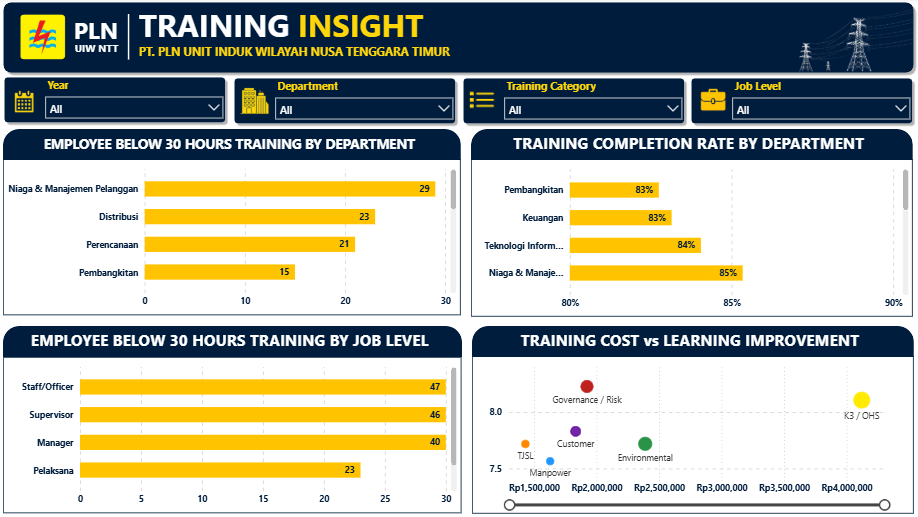

What the dashboard file says about the page in this screenshot:
{"tool":"powerbi","page":{"name":"Training Insight","canvas":[1280,720],"ordinal":5},"visuals":[{"type":"group","id":"g1","title":"Group 7","box":[960,104,316,74],"z":0,"group":"g8"},{"type":"group","id":"g2","title":"Group 8","box":[332.3,104.5,316,74],"z":0},{"type":"group","id":"g3","title":"Group 8","box":[15.1,103.5,316,74],"z":1000},{"type":"image","box":[966,112.4,60.6,53.7],"z":1000,"group":"g8"},{"type":"shape","box":[13.8,0,1264.9,108.7],"z":2000},{"type":"image","box":[41.7,22.3,65.4,62.6],"z":3000},{"type":"textbox","box":[111.9,17,83.5,52.6],"z":4000},{"type":"textbox","box":[112.6,53.9,75.2,36.8],"z":5000},{"type":"shape","box":[185,22.3,15.3,62.6],"z":6000},{"type":"textbox","box":[200.9,2.8,567.1,70.2],"z":7000},{"type":"textbox","box":[201.1,57.4,442.6,45.7],"z":8000},{"type":"clusteredBarChart","fields":{"Category":["DimEmployee.Department"],"Y":["FactTraining.Training Completion Rate"]},"box":[664.1,221.3,608.3,217.5],"z":8000,"group":"g12"},{"type":"clusteredBarChart","fields":{"Category":["DimEmployee.Department"],"Y":["FactTraining.Employees Low Training Exposure"]},"box":[19.7,221.7,629.7,214.6],"z":8000,"group":"g4"},{"type":"scatterChart","fields":{"X":["FactTraining.Cost per Participant"],"Y":["FactTraining.Learning Improvement"],"Size":["FactTraining.Training Participants"],"Series":["DimTraining.TrainingCategory"]},"box":[665.1,492.3,608.3,217.5],"z":8000,"group":"g13"},{"type":"clusteredBarChart","fields":{"Y":["FactTraining.Employees Low Training Exposure"],"Category":["DimEmployee.JobLevel"]},"box":[19.3,494.1,630.5,214.7],"z":8000,"group":"g6"},{"type":"image","box":[1113.5,6.9,161,100.5],"z":9000},{"type":"group","id":"g4","title":"Group 9","box":[19.3,180.3,630.4,256],"z":10000},{"type":"group","id":"g5","title":"Group 7","box":[646.8,104.5,316,74],"z":11000},{"type":"image","box":[333.5,117,66.1,48.2],"z":12000},{"type":"image","box":[19.3,105.4,57.8,72.9],"z":13000},{"type":"image","box":[655.1,114.2,46.8,52.3],"z":14000},{"type":"group","id":"g6","title":"Group 9","box":[19.3,451.4,631.7,257.4],"z":15000},{"type":"group","id":"g7","title":"Group 4","box":[15.1,103.5,316,74],"z":16000,"group":"g3"},{"type":"group","id":"g8","title":"Group 1","box":[960,104,316,74],"z":16000},{"type":"group","id":"g9","title":"Group 4","box":[960,104,316,74],"z":16000,"group":"g14"},{"type":"group","id":"g10","title":"Group 4","box":[332.3,104.5,316,74],"z":16000,"group":"g2"},{"type":"group","id":"g11","title":"Group 4","box":[646.8,104.5,316,74],"z":16000,"group":"g15"},{"type":"shape","box":[664.4,179.9,608.2,42.7],"z":16000,"group":"g12"},{"type":"shape","box":[19.3,180.3,630.4,42.7],"z":16000,"group":"g4"},{"type":"shape","box":[665.1,450.8,608.3,42.7],"z":16000,"group":"g13"},{"type":"shape","box":[19.3,451.4,631.7,42.7],"z":16000,"group":"g6"},{"type":"group","id":"g12","title":"Group 9","box":[664.1,179.9,608.6,258.9],"z":17000},{"type":"textbox","box":[678.4,180,571.9,39.9],"z":17000,"group":"g12"},{"type":"textbox","box":[33.8,183,592.7,39.9],"z":17000,"group":"g4"},{"type":"textbox","box":[678.7,451,572.6,46.8],"z":17000,"group":"g13"},{"type":"textbox","box":[33.8,451.5,594,39.9],"z":17000,"group":"g6"},{"type":"group","id":"g13","title":"Group 9","box":[665.1,450.8,608.3,259],"z":18000},{"type":"shape","box":[15.1,103.5,316,74],"z":19000,"group":"g7"},{"type":"shape","box":[960,104,316,74],"z":19000,"group":"g9"},{"type":"shape","box":[332.3,104.5,316,74],"z":19000,"group":"g10"},{"type":"shape","box":[646.8,104.5,316,74],"z":19000,"group":"g11"},{"type":"group","id":"g14","title":"Group 8","box":[960,104,316,74],"z":19001,"group":"g1"},{"type":"group","id":"g15","title":"Group 8","box":[646.8,104.5,316,74],"z":19001,"group":"g5"},{"type":"slicer","fields":{"Values":["DimDate.Year"]},"box":[66.9,108.7,260.2,57.8],"z":20000,"group":"g7"},{"type":"slicer","fields":{"Values":["DimEmployee.JobLevel"]},"box":[1011.8,109.2,260.2,57.8],"z":20000,"group":"g9"},{"type":"slicer","fields":{"Values":["DimEmployee.Department"]},"box":[384.1,109.7,260.2,57.8],"z":20000,"group":"g10"},{"type":"slicer","fields":{"Values":["DimTraining.TrainingCategory"]},"box":[698.6,109.7,260.2,57.8],"z":20000,"group":"g11"}]}

Visuals, with their boxes in screenshot pixels (x1, y1, x2, y2), scaled from the page's 1280x720 canvas onto the 918x517 screenshot:
"Group 7" group: x1=688, y1=75, x2=915, y2=128
"Group 8" group: x1=238, y1=75, x2=465, y2=128
"Group 8" group: x1=11, y1=74, x2=237, y2=127
image: x1=693, y1=81, x2=736, y2=119
shape: x1=10, y1=0, x2=917, y2=78
image: x1=30, y1=16, x2=77, y2=61
textbox: x1=80, y1=12, x2=140, y2=50
textbox: x1=81, y1=39, x2=135, y2=65
shape: x1=133, y1=16, x2=144, y2=61
textbox: x1=144, y1=2, x2=551, y2=52
textbox: x1=144, y1=41, x2=462, y2=74
clusteredBarChart - DimEmployee.Department x FactTraining.Training Completion Rate: x1=476, y1=159, x2=913, y2=315
clusteredBarChart - DimEmployee.Department x FactTraining.Employees Low Training Exposure: x1=14, y1=159, x2=466, y2=313
scatterChart - FactTraining.Cost per Participant x FactTraining.Learning Improvement: x1=477, y1=353, x2=913, y2=510
clusteredBarChart - FactTraining.Employees Low Training Exposure x DimEmployee.JobLevel: x1=14, y1=355, x2=466, y2=509
image: x1=799, y1=5, x2=914, y2=77
"Group 9" group: x1=14, y1=129, x2=466, y2=313
"Group 7" group: x1=464, y1=75, x2=691, y2=128
image: x1=239, y1=84, x2=287, y2=119
image: x1=14, y1=76, x2=55, y2=128
image: x1=470, y1=82, x2=503, y2=120
"Group 9" group: x1=14, y1=324, x2=467, y2=509
"Group 4" group: x1=11, y1=74, x2=237, y2=127
"Group 1" group: x1=688, y1=75, x2=915, y2=128
"Group 4" group: x1=688, y1=75, x2=915, y2=128
"Group 4" group: x1=238, y1=75, x2=465, y2=128
"Group 4" group: x1=464, y1=75, x2=691, y2=128
shape: x1=476, y1=129, x2=913, y2=160
shape: x1=14, y1=129, x2=466, y2=160
shape: x1=477, y1=324, x2=913, y2=354
shape: x1=14, y1=324, x2=467, y2=355
"Group 9" group: x1=476, y1=129, x2=913, y2=315
textbox: x1=487, y1=129, x2=897, y2=158
textbox: x1=24, y1=131, x2=449, y2=160
textbox: x1=487, y1=324, x2=897, y2=357
textbox: x1=24, y1=324, x2=450, y2=353
"Group 9" group: x1=477, y1=324, x2=913, y2=510
shape: x1=11, y1=74, x2=237, y2=127
shape: x1=688, y1=75, x2=915, y2=128
shape: x1=238, y1=75, x2=465, y2=128
shape: x1=464, y1=75, x2=691, y2=128
"Group 8" group: x1=688, y1=75, x2=915, y2=128
"Group 8" group: x1=464, y1=75, x2=691, y2=128
slicer - DimDate.Year: x1=48, y1=78, x2=235, y2=120
slicer - DimEmployee.JobLevel: x1=726, y1=78, x2=912, y2=120
slicer - DimEmployee.Department: x1=275, y1=79, x2=462, y2=120
slicer - DimTraining.TrainingCategory: x1=501, y1=79, x2=688, y2=120
